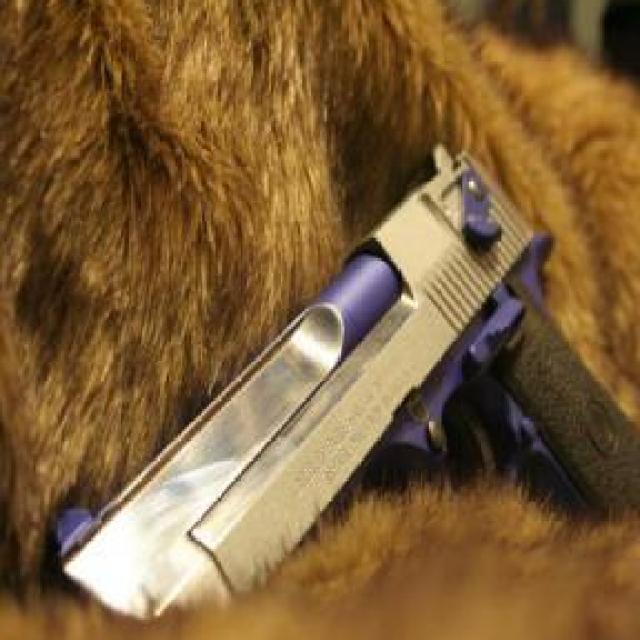pistol: (42, 144, 640, 606)
